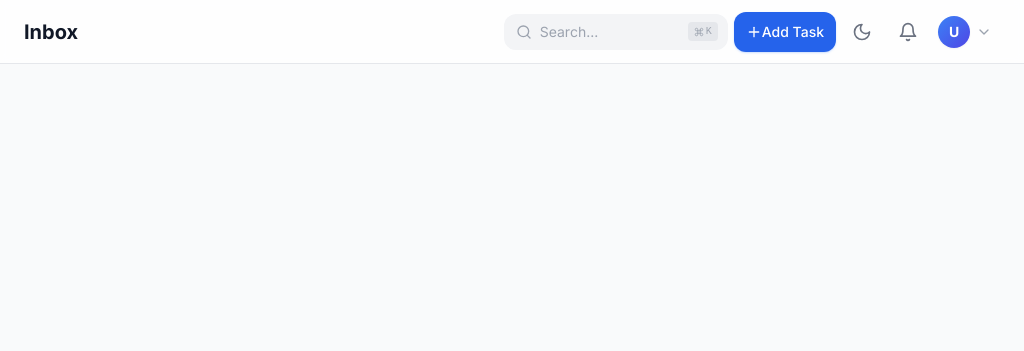
Test: Header notifications › renders the header with an error state instead of crashing on API failure
Click the button named "Notifications".
click(908, 32)  # box [888,12,928,52]
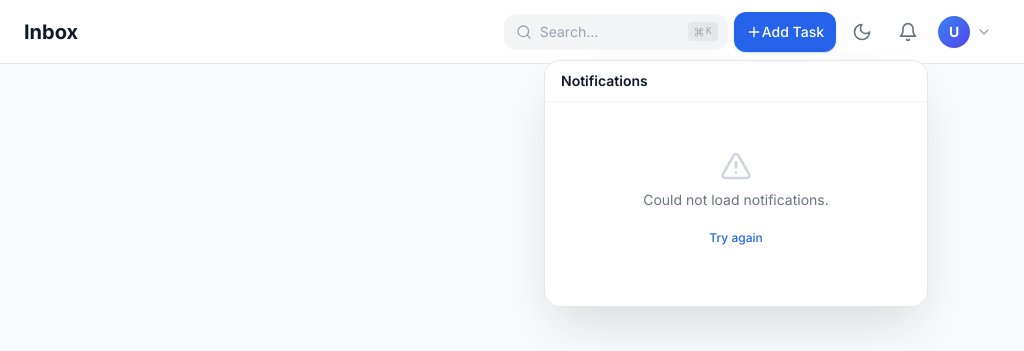
Result: the text "Could not load notifications." is shown at [643,190,829,208]
